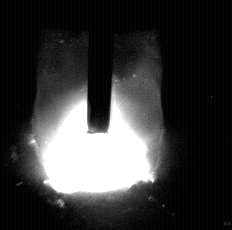arame: (88, 0, 111, 134)
poca: (32, 0, 167, 230)
